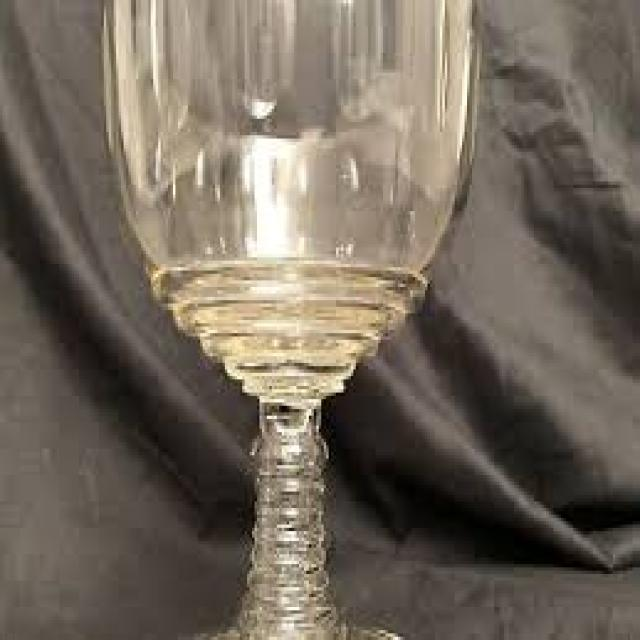glass: (104, 0, 472, 637)
